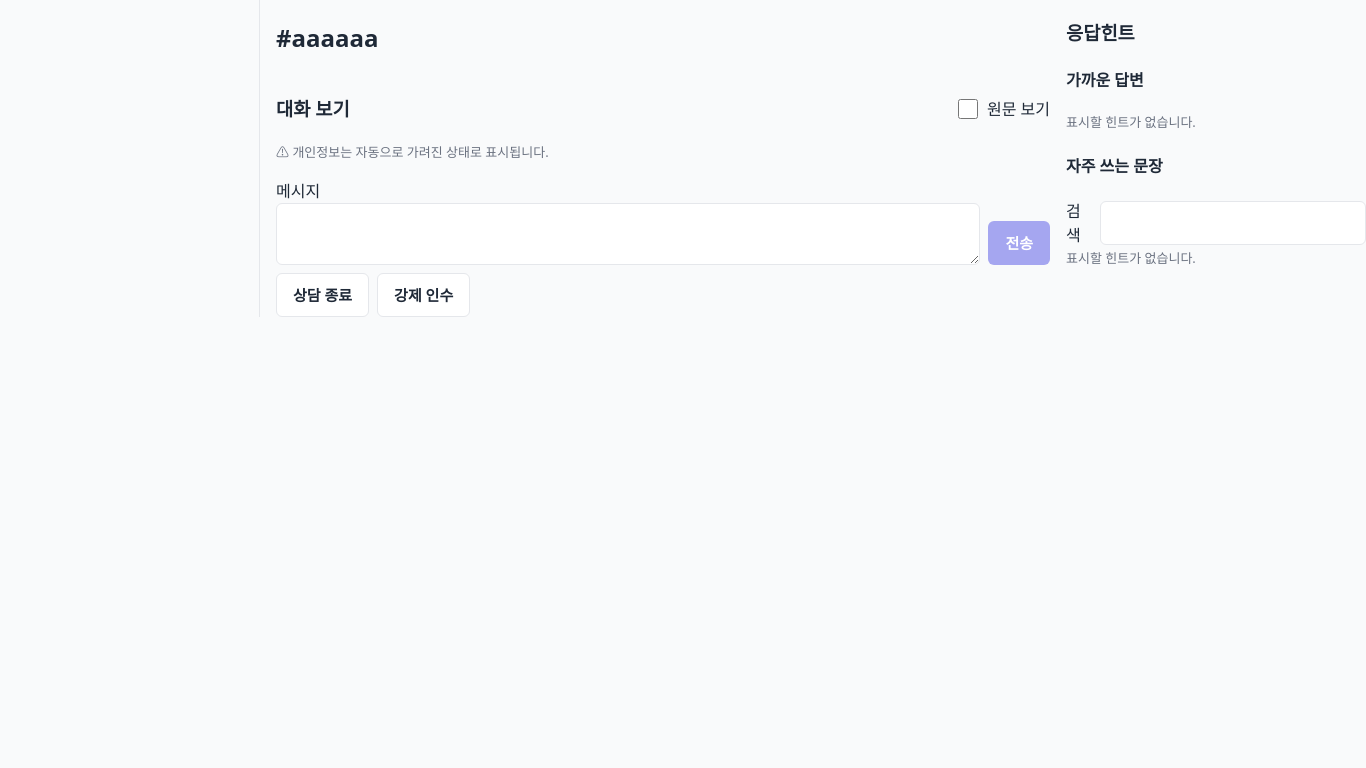
LiveSessionDetailPage — 종료 확인 미리보기(endButtonLabel, M-2) › 종료 후 버튼이 설정되지 않은 상담은 미리보기 문구를 보여주지 않는다
What coordinates should you click on to do the following:
click the button "상담 종료"
I would click on:
 (323, 295)
Its box is [276,273,369,317].
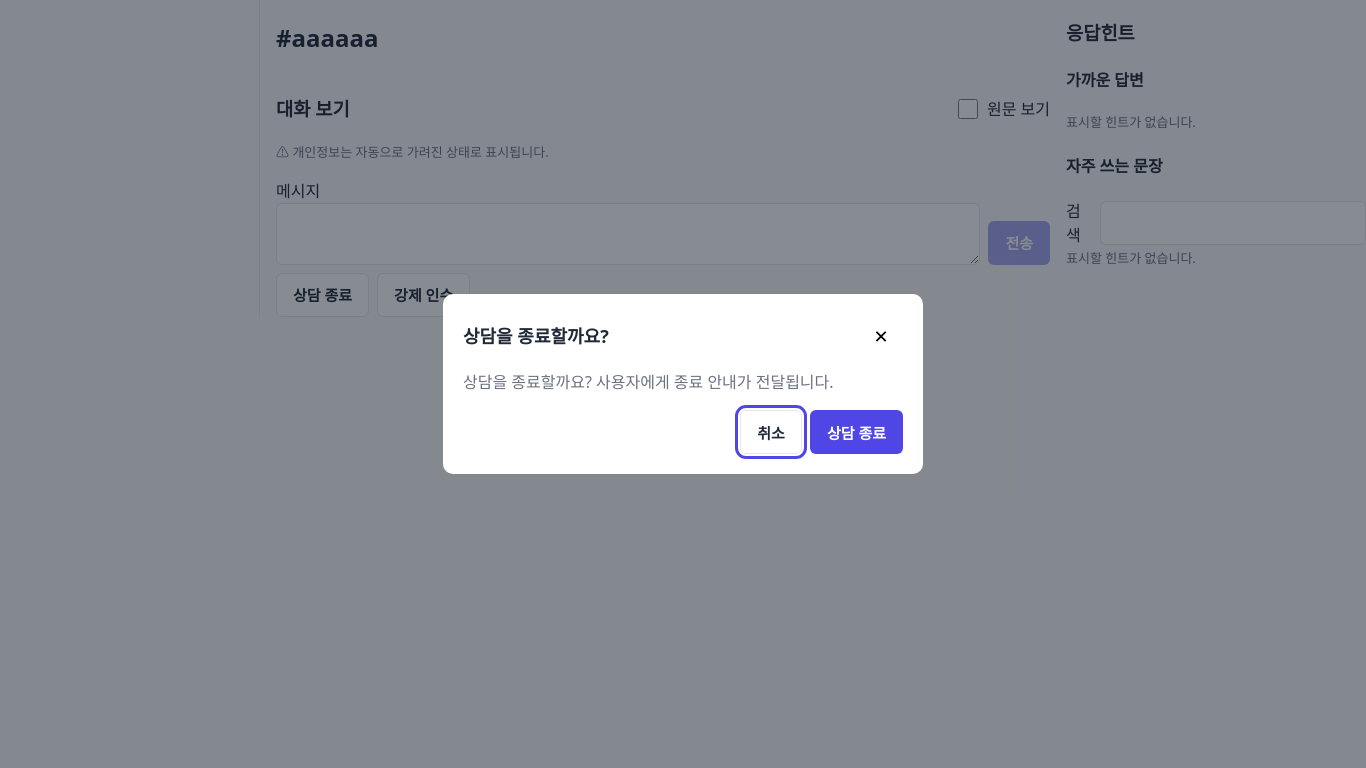
Expected: the text "상담을 종료할까요? 사용자에게 종료 안내가 전달됩니다." is shown, [463,371,834,393]
